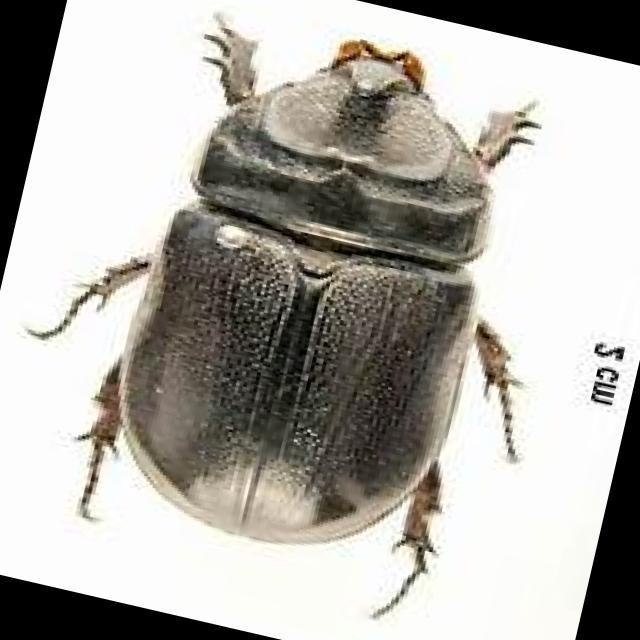Rhino-beetle: (79, 24, 542, 618)
